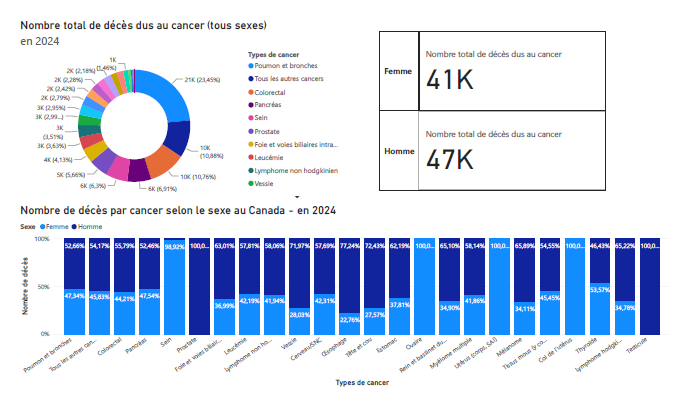

The page's visual inventory and layout, read from the dashboard file:
{"tool":"powerbi","page":{"name":"Visualisation","canvas":[1280,720],"ordinal":0},"visuals":[{"type":"donutChart","title":"Nombre total de décès dus au cancer (tous sexes)","fields":{"Category":["Ajouter1.TypeCancer"],"Y":["Sum(Ajouter1.Nombre)"]},"box":[0,0,640,360],"z":0},{"type":"hundredPercentStackedColumnChart","title":"Nombre de décès par cancer selon le sexe au Canada - en 2024","fields":{"Category":["Ajouter1.TypeCancer"],"Y":["Sum(Ajouter1.Nombre)"],"Series":["Ajouter1.Sexe"]},"box":[0,360,1270,360],"z":1000},{"type":"cardVisual","fields":{"Data":["Sum(Ajouter1.Nombre)"],"Rows":["Ajouter1.Sexe"]},"box":[696.7,0,448.3,360],"z":1001}]}

Visuals, with their boxes on the page's 1280x720 design canvas (x1, y1, x2, y2). These are canvas units, not pixel positions in the 683x402 screenshot, which may show the page scaled, cropped or inside an application window:
"Nombre total de décès dus au cancer (tous sexes)" donutChart: x1=0 y1=0 x2=640 y2=360
"Nombre de décès par cancer selon le sexe au Canada - en 2024" hundredPercentStackedColumnChart: x1=0 y1=360 x2=1270 y2=720
cardVisual - Sum(Ajouter1.Nombre) x Ajouter1.Sexe: x1=697 y1=0 x2=1145 y2=360
